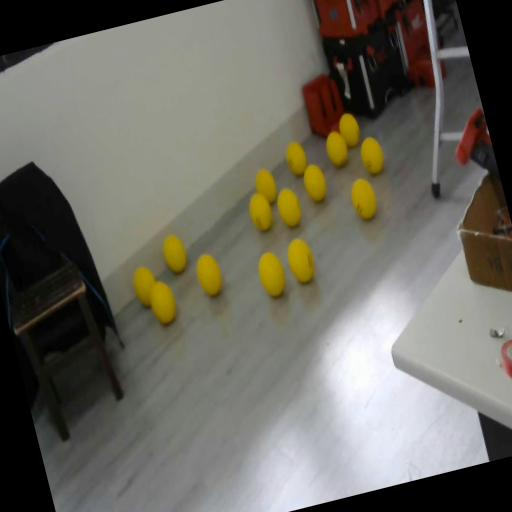FUEL: (144, 276, 181, 328), (254, 248, 290, 300), (283, 235, 319, 287), (192, 248, 226, 300), (346, 174, 382, 222), (273, 185, 305, 230), (159, 231, 191, 276), (299, 160, 331, 204), (356, 134, 388, 176), (251, 164, 281, 206), (246, 192, 276, 234), (322, 128, 351, 169), (335, 110, 363, 149), (282, 139, 310, 178)
